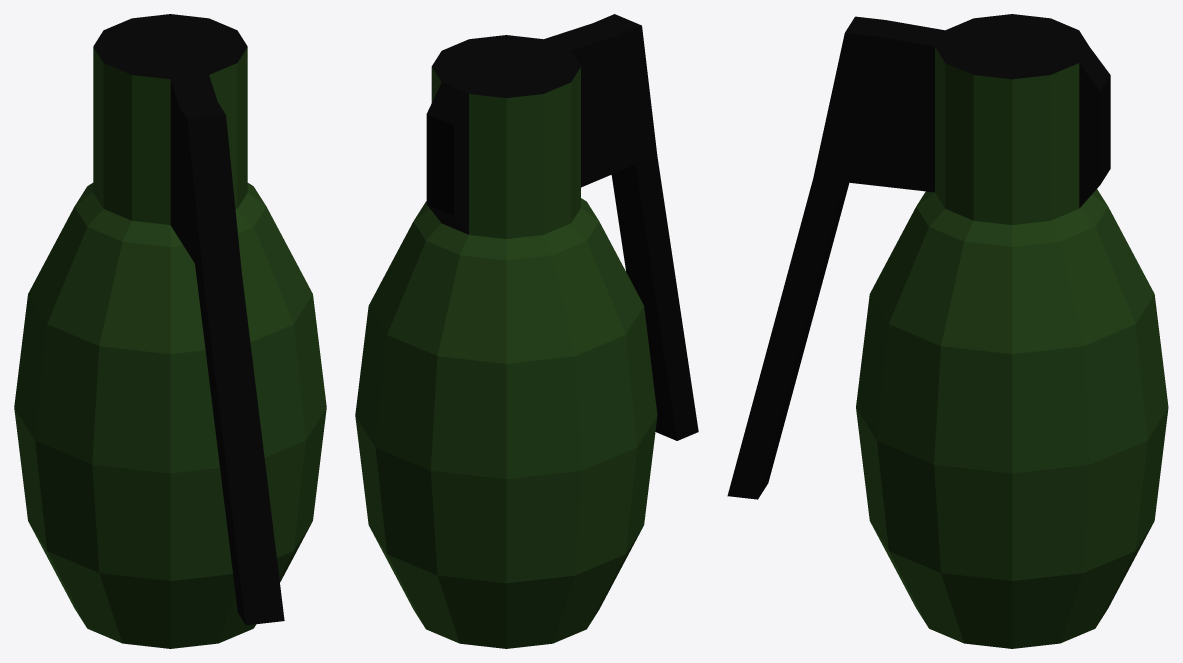
The model's file is grenade.fbx.
3 views of the same model, side by side, from view 1: azimuth 30°, elevation 25°; view 2: azimuth 150°, elevation 25°; view 3: azimuth 270°, elevation 25° (orthographic). The views are drawn at different scales.
Visible parts, largest first — view 1: g_01; view 2: g_01; view 3: g_01.
Boxes of the visible parts, x1,y1,x2,y2 form: g_01: (14, 14, 326, 648); g_01: (355, 14, 698, 648); g_01: (727, 14, 1168, 648).
Size of the model in its own units: 7.24 by 14.35 by 10.21.
